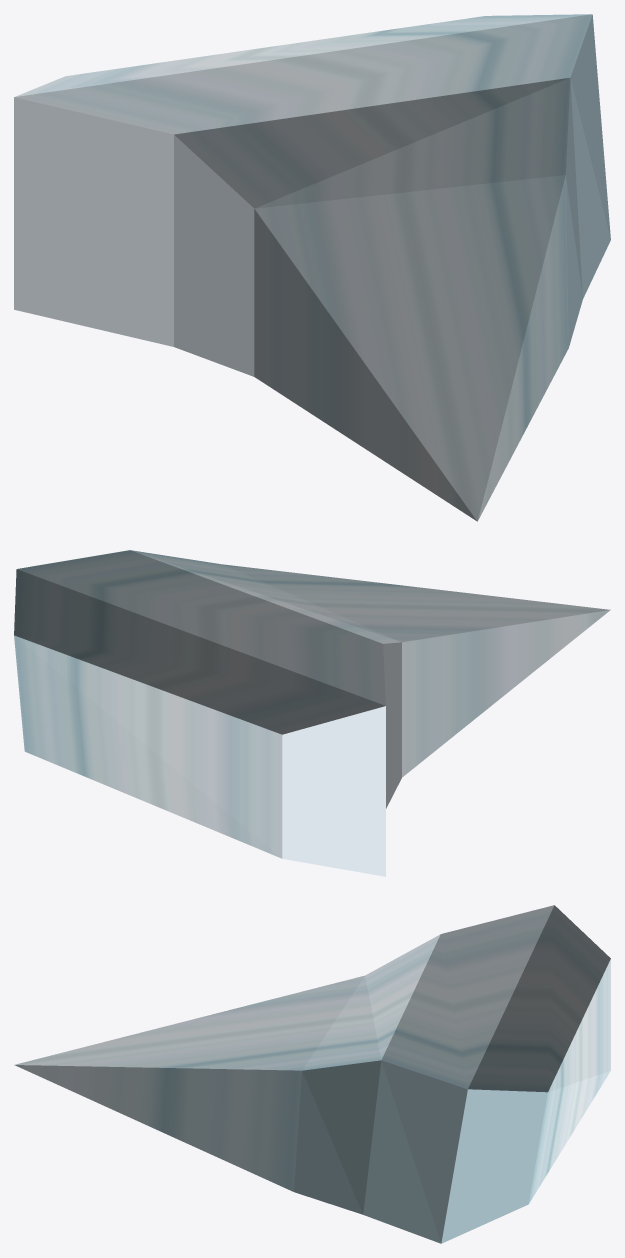
The model's file is cap_frostshield_chunk1.glb.
3 views of the same model, one above another, from view 1: azimuth 30°, elevation 25°; view 2: azimuth 150°, elevation 25°; view 3: azimuth 270°, elevation 25° (orthographic). The views are drawn at different scales.
Visible parts, largest first — view 1: cap_frostshield_chunk1_0; view 2: cap_frostshield_chunk1_0; view 3: cap_frostshield_chunk1_0.
Part boxes in pixels (x1,y1,x2,y2): cap_frostshield_chunk1_0: (14,14,610,521); cap_frostshield_chunk1_0: (14,550,610,876); cap_frostshield_chunk1_0: (14,905,610,1243).
Bounding box in the file's own units: 6.58 × 2.57 × 9.01.
Materials: 1 (1 with a texture image).
